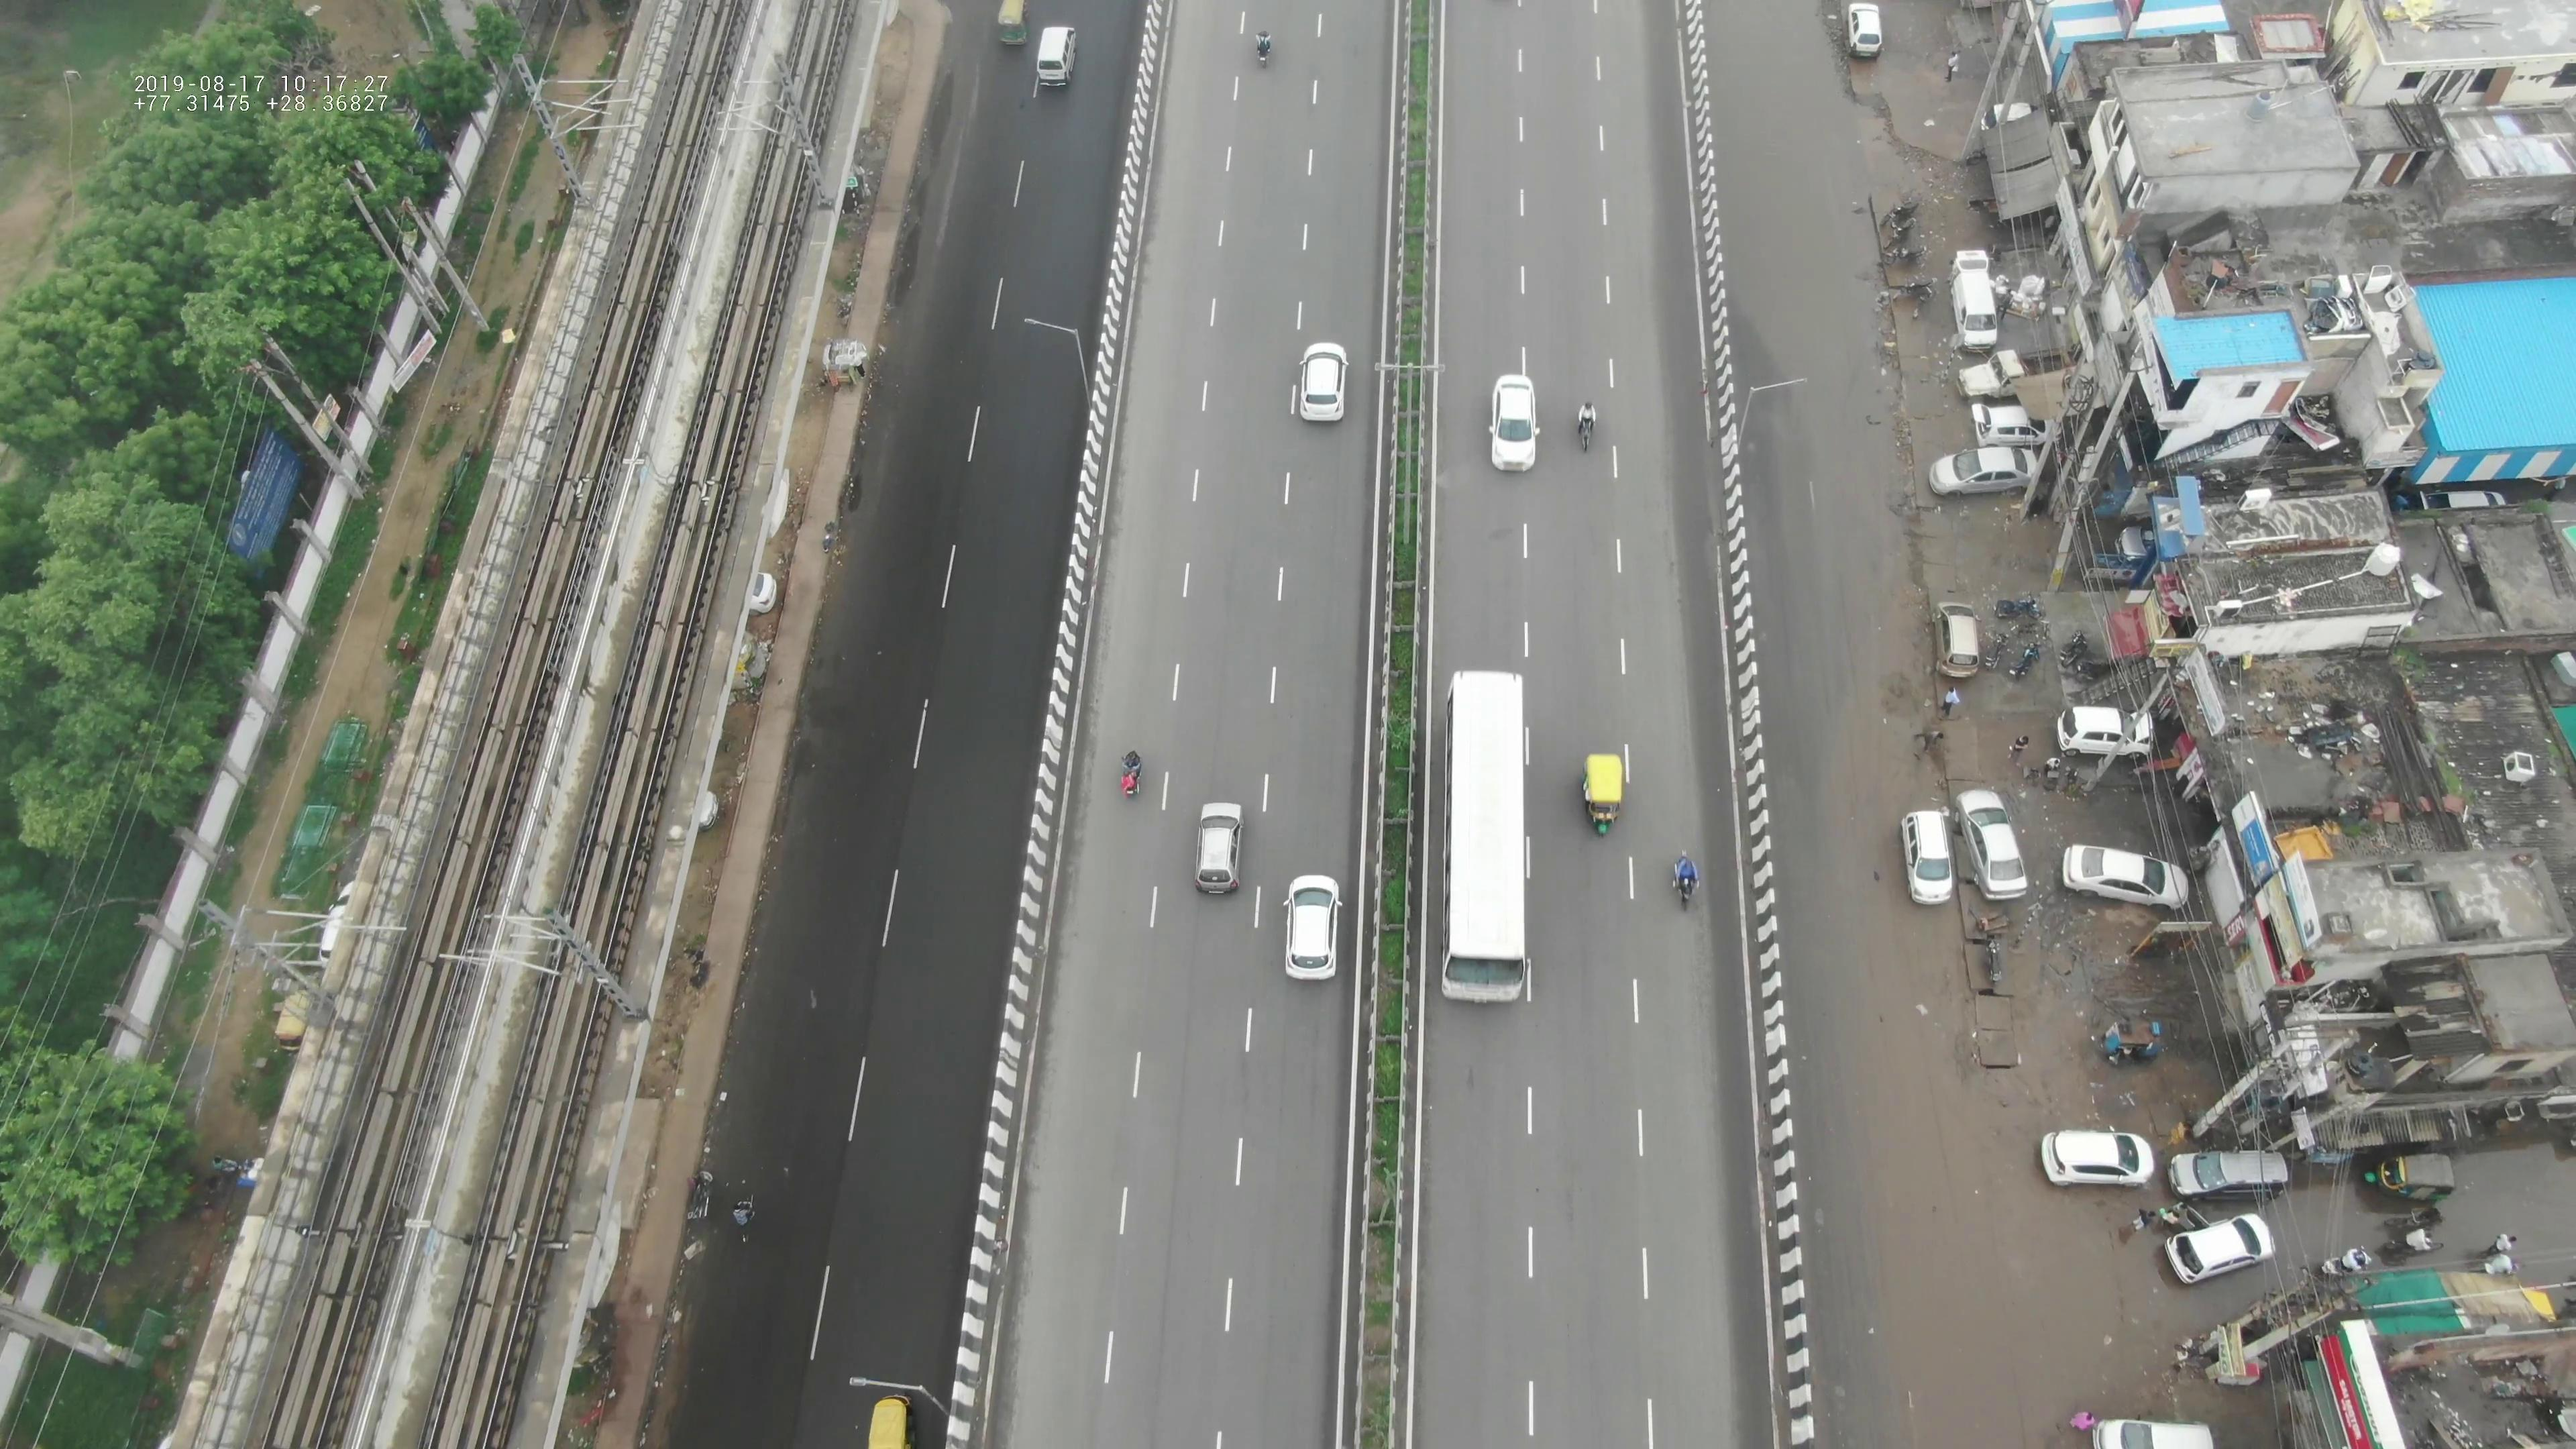Waterlogging: (870, 69, 970, 333), (830, 462, 870, 529)
